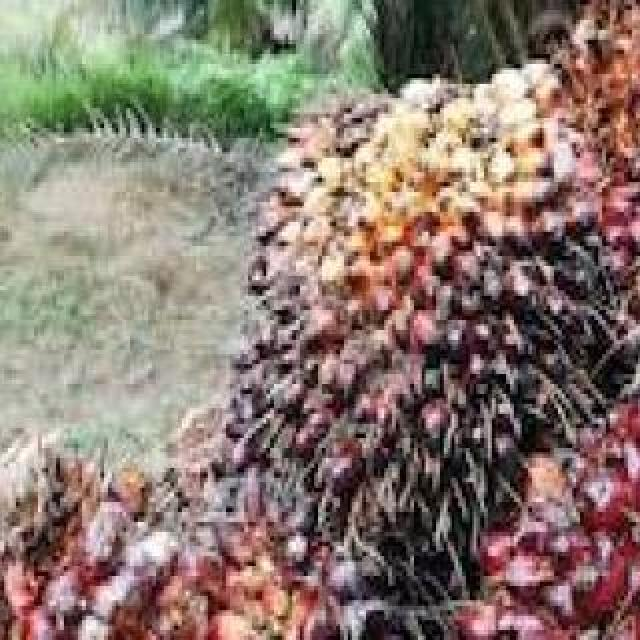Ripe: (238, 94, 586, 504), (0, 448, 414, 640)
